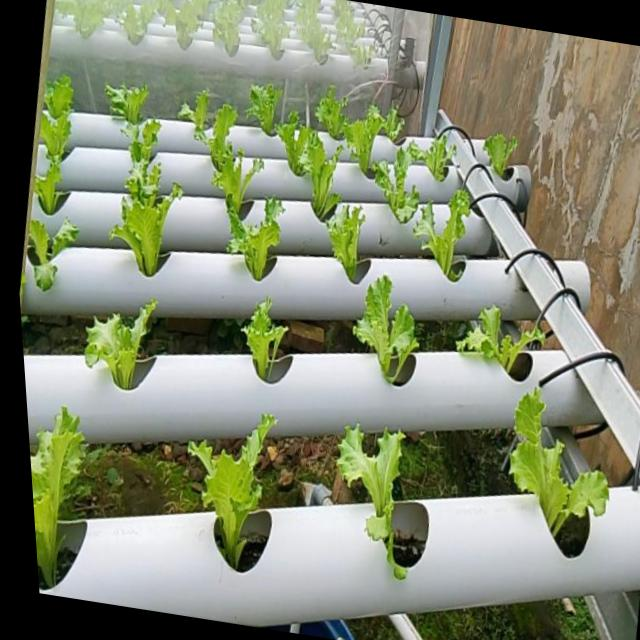Baby: (509, 397, 608, 545), (189, 420, 275, 576), (337, 435, 407, 588), (31, 414, 85, 594), (353, 279, 419, 387), (197, 126, 265, 222), (86, 303, 157, 394), (457, 307, 549, 375), (288, 129, 344, 226), (414, 193, 472, 285), (230, 79, 287, 163), (116, 200, 175, 280), (345, 106, 405, 178), (372, 147, 420, 228), (29, 221, 80, 294), (243, 301, 287, 384), (123, 138, 165, 224), (240, 202, 282, 284), (327, 208, 366, 286), (41, 84, 73, 163), (410, 133, 458, 185), (177, 91, 219, 147), (316, 87, 349, 143), (106, 85, 149, 127), (484, 134, 519, 176)
